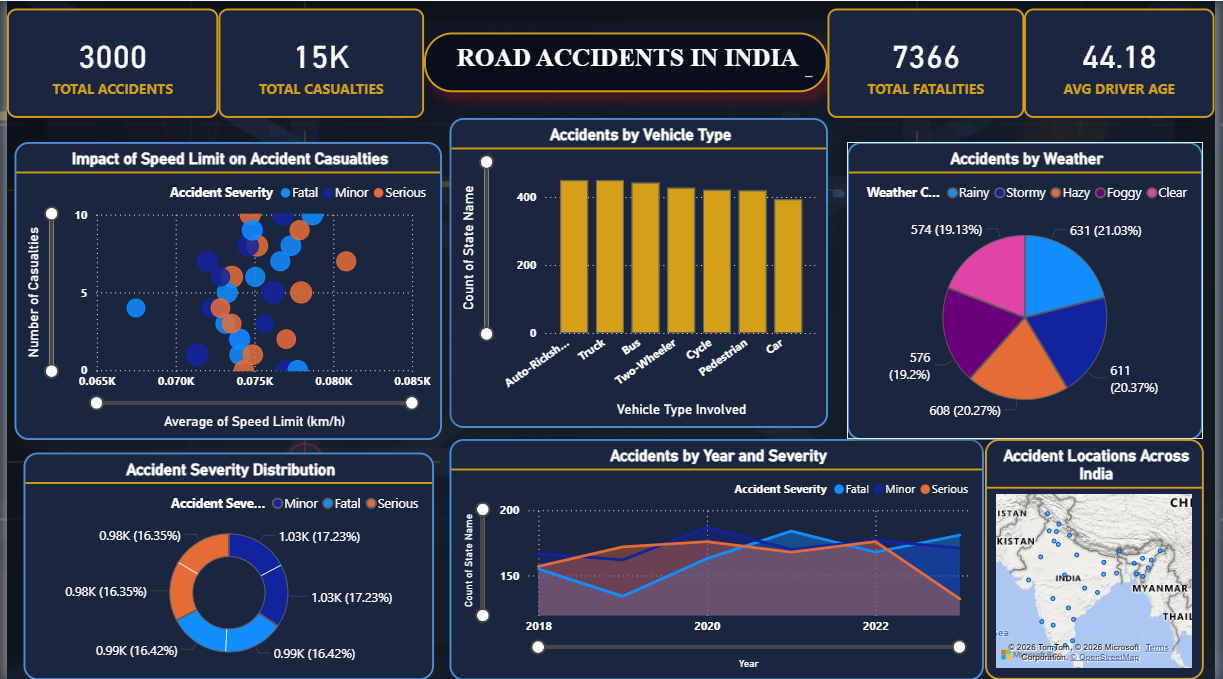

Layout of this report page (visuals, bound fields, positions):
{"tool":"powerbi","page":{"name":"Page 1","canvas":[1280,720],"ordinal":0},"visuals":[{"type":"textbox","title":"ROAD ACCIDENTS IN INDIA","box":[442.2,33.4,427.9,63.6],"z":0},{"type":"card","fields":{"Values":["accident_prediction_india.TOTAL CASUALTIES"]},"box":[224.3,8,217.9,116.1],"z":1000},{"type":"card","fields":{"Values":["accident_prediction_india.TOTAL FATALITIES"]},"box":[870.1,8,208.4,116.1],"z":2000},{"type":"card","fields":{"Values":["accident_prediction_india.AVG DRIVER AGE"]},"box":[1078.4,8,202,116.1],"z":3000},{"type":"donutChart","title":"Accident Severity Distribution","fields":{"Category":["accident_prediction_india.Accident Severity"],"Y":["CountNonNull(accident_prediction_india.City Name)","CountNonNull(accident_prediction_india.Weather Conditions)"]},"box":[17.8,479.3,435.6,241.3],"z":4000},{"type":"lineChart","title":"Accidents by Year and Severity","fields":{"Category":["accident_prediction_india.Year"],"Y":["CountNonNull(accident_prediction_india.State Name)"],"Series":["accident_prediction_india.Accident Severity"]},"box":[469.6,464.7,566.7,255.8],"z":5000},{"type":"pieChart","title":"Accidents by Weather","fields":{"Category":["accident_prediction_india.Weather Conditions"],"Y":["CountNonNull(accident_prediction_india.State Name)"]},"box":[890.6,149,377.3,315.7],"z":6000},{"type":"columnChart","title":"Accidents by Vehicle Type","fields":{"Y":["CountNonNull(accident_prediction_india.State Name)"],"Category":["accident_prediction_india.Vehicle Type Involved"]},"box":[469.6,124.7,401.6,328.7],"z":7000},{"type":"map","title":"Accident Locations Across India","fields":{"Category":["accident_prediction_india.State Name"]},"box":[1037,465,232,255],"z":8000},{"type":"scatterChart","title":"Impact of Speed Limit on Accident Casualties","fields":{"Y":["accident_prediction_india.Number of Casualties"],"Series":["accident_prediction_india.Accident Severity"],"X":["Avg(accident_prediction_india.Speed Limit (km/h))"],"Size":["Sum(accident_prediction_india.Number of Vehicles Involved)"]},"box":[8.1,149,453.4,315.7],"z":9000},{"type":"card","fields":{"Values":["accident_prediction_india.TOTAL ACCIDENTS"]},"box":[0,8,224.3,116.1],"z":10000}]}

Visuals, with their boxes in screenshot pixels (x1, y1, x2, y2), scaled from the page's 1280x720 canvas onto the 1223x679 screenshot:
"ROAD ACCIDENTS IN INDIA" textbox: [x1=423, y1=31, x2=831, y2=91]
card - accident_prediction_india.TOTAL CASUALTIES: [x1=214, y1=8, x2=423, y2=117]
card - accident_prediction_india.TOTAL FATALITIES: [x1=831, y1=8, x2=1030, y2=117]
card - accident_prediction_india.AVG DRIVER AGE: [x1=1030, y1=8, x2=1222, y2=117]
"Accident Severity Distribution" donutChart: [x1=17, y1=452, x2=433, y2=678]
"Accidents by Year and Severity" lineChart: [x1=449, y1=438, x2=990, y2=678]
"Accidents by Weather" pieChart: [x1=851, y1=141, x2=1211, y2=438]
"Accidents by Vehicle Type" columnChart: [x1=449, y1=118, x2=832, y2=428]
"Accident Locations Across India" map: [x1=991, y1=439, x2=1212, y2=678]
"Impact of Speed Limit on Accident Casualties" scatterChart: [x1=8, y1=141, x2=441, y2=438]
card - accident_prediction_india.TOTAL ACCIDENTS: [x1=0, y1=8, x2=214, y2=117]
